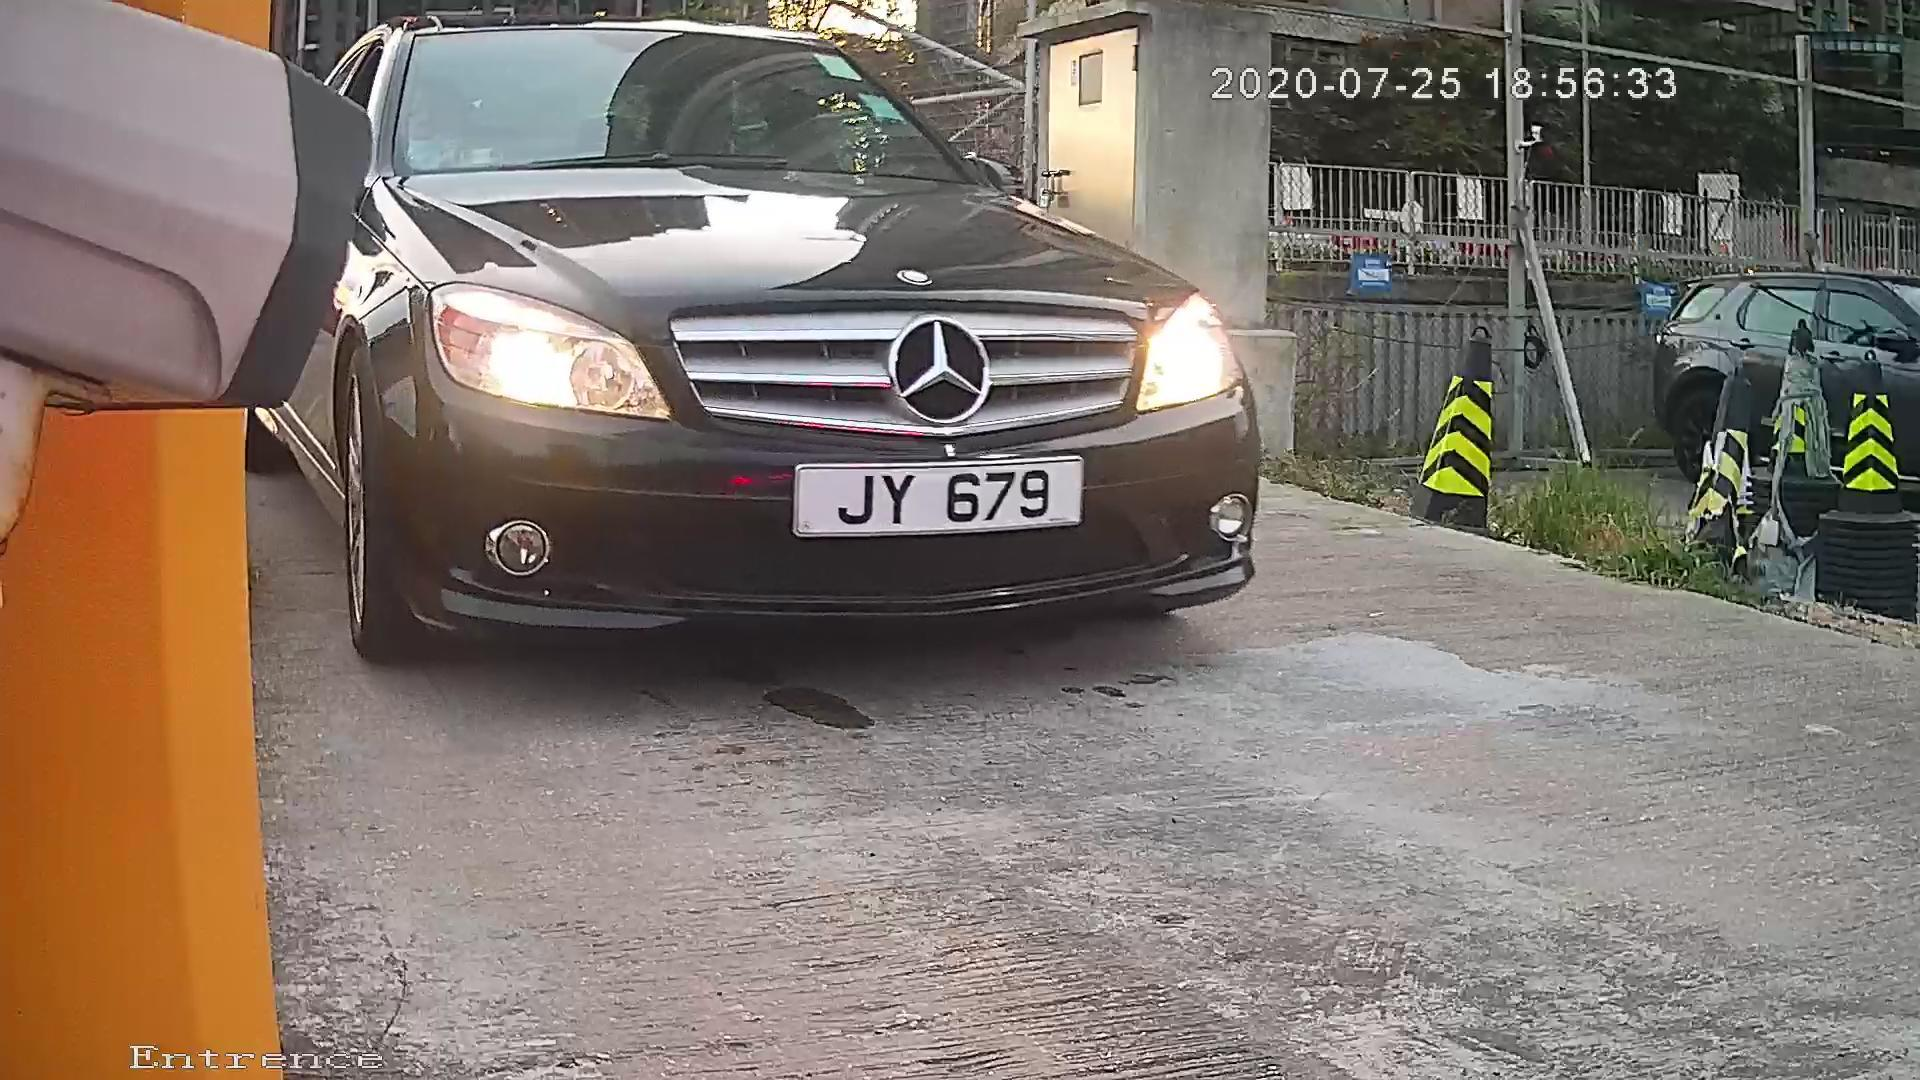privatecar: (232, 25, 1364, 684)
